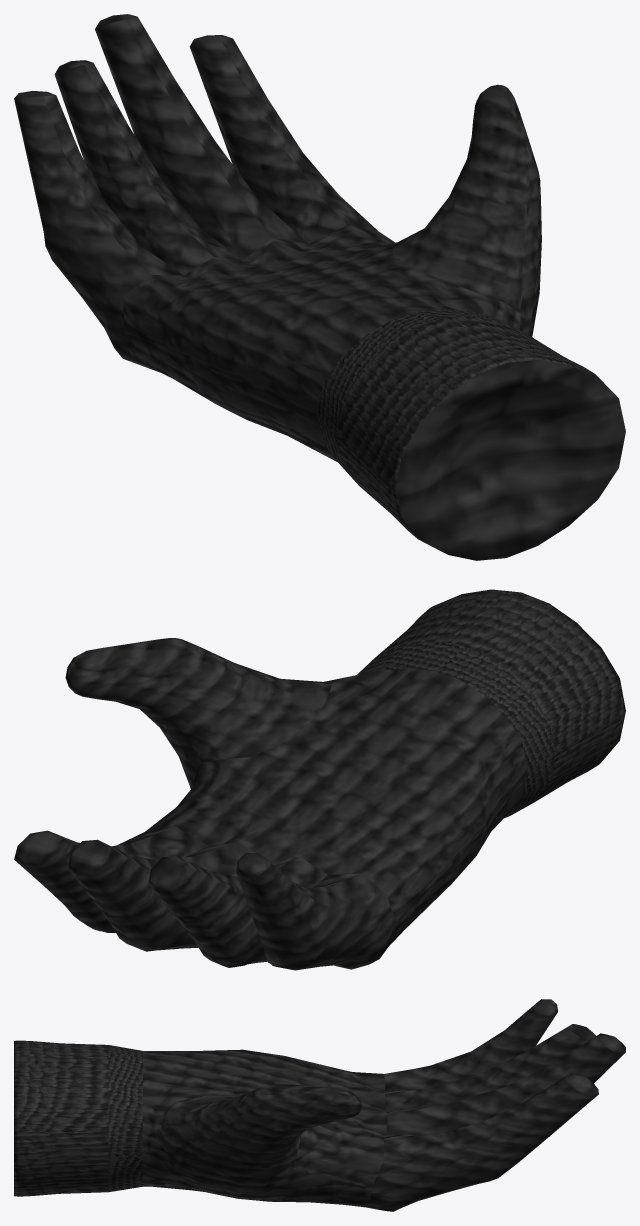
File: mesh013_Metal_Glove.fbx
3 views of the same model, one above another, from view 1: azimuth 30°, elevation 25°; view 2: azimuth 150°, elevation 25°; view 3: azimuth 270°, elevation 25° (orthographic). The views are drawn at different scales.
Parts seen in each view (by area): view 1: pCube1; view 2: pCube1; view 3: pCube1.
Part boxes in pixels (left/top/right/bottom): pCube1: left=14, top=14, right=625, bottom=560; pCube1: left=14, top=589, right=625, bottom=970; pCube1: left=14, top=999, right=625, bottom=1211.
Size of the model in its own units: 1.77 by 1.14 by 3.62.
